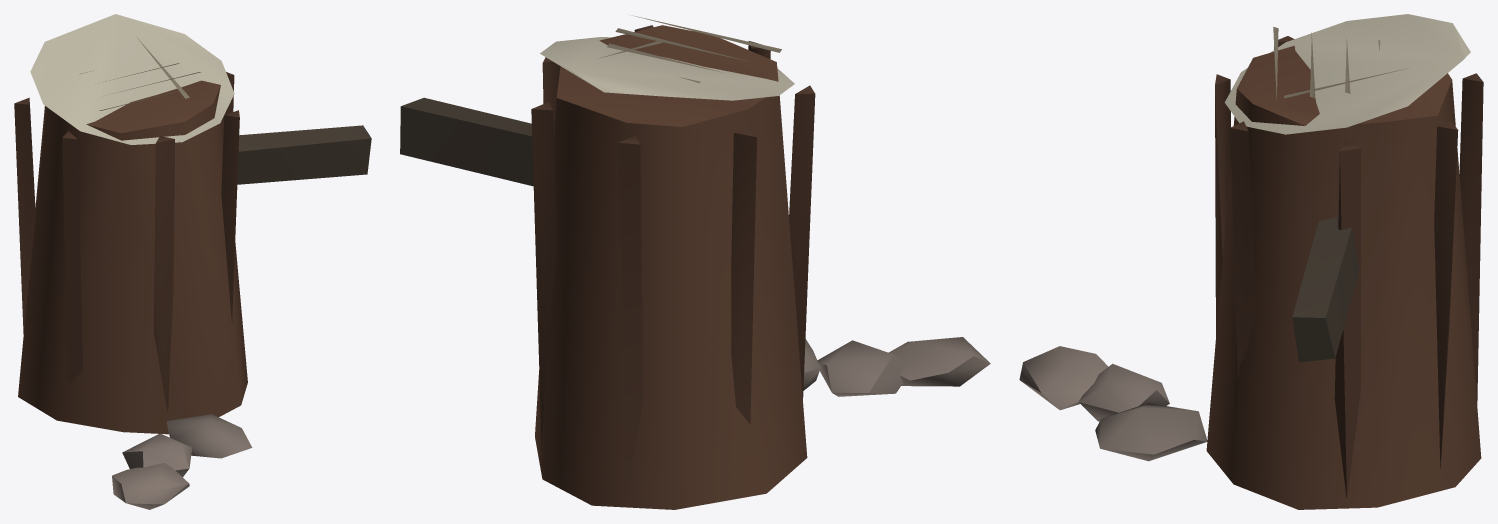
Rendered from chart_post_b_lod2.glb.
3 views of the same model, side by side, from view 1: azimuth 30°, elevation 25°; view 2: azimuth 150°, elevation 25°; view 3: azimuth 270°, elevation 25° (orthographic). The views are drawn at different scales.
Visible parts, largest first — view 1: Surface.001; view 2: Surface.001; view 3: Surface.001.
Part boxes in pixels (<box>): Surface.001: <box>14,14,371,509</box>; Surface.001: <box>400,15,990,509</box>; Surface.001: <box>1019,14,1483,509</box>.
Bounding box in the file's own units: 1.43 × 1.31 × 1.32.
